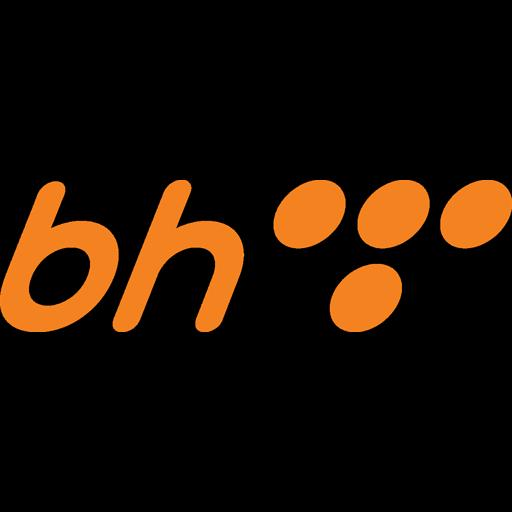BH Telecom: (0, 180, 512, 332)
